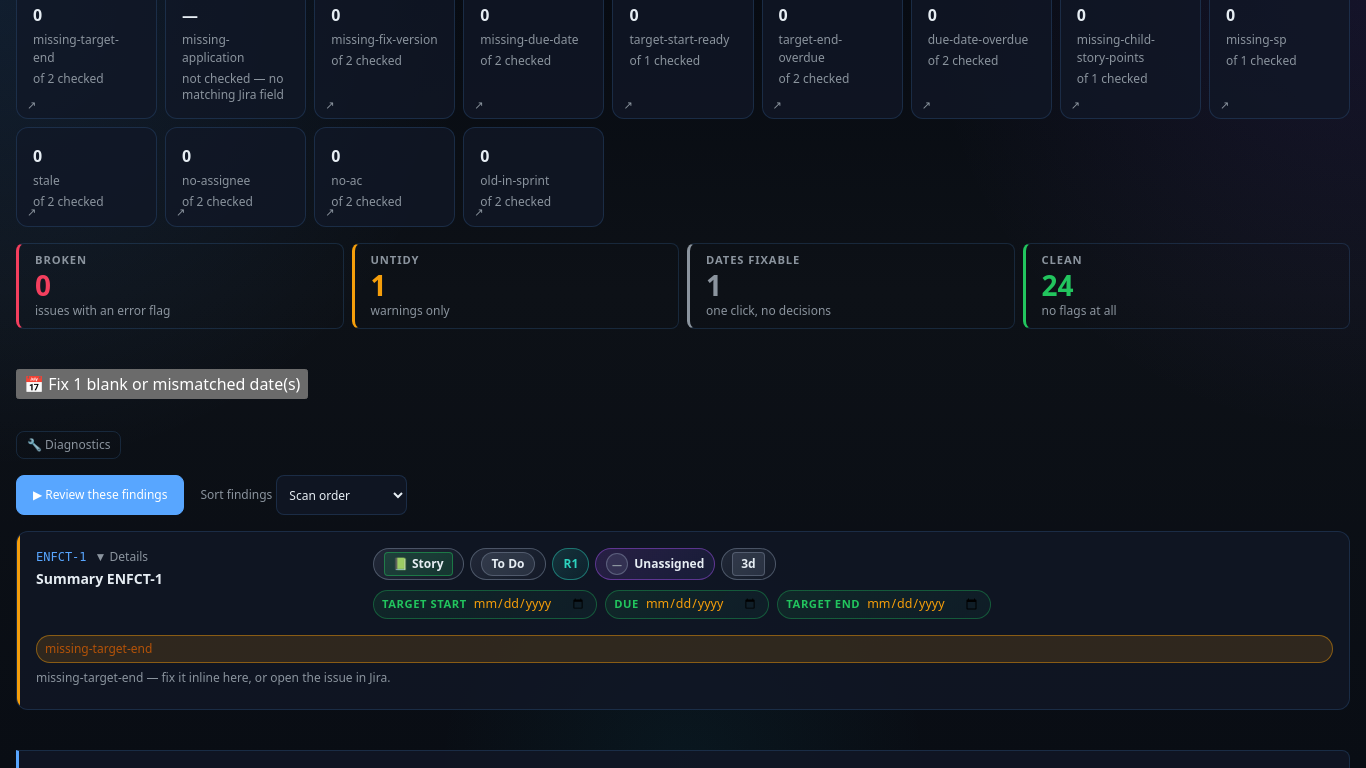
Scenario: HygieneView — the date button says what it will NOT do › shows Jira's own reason when a write fails, not just the issue key
(page scrolled)
Click the button "📅 Fix 1 blank or mismatched date(s)" at [162, 384], box [16,369,308,399]
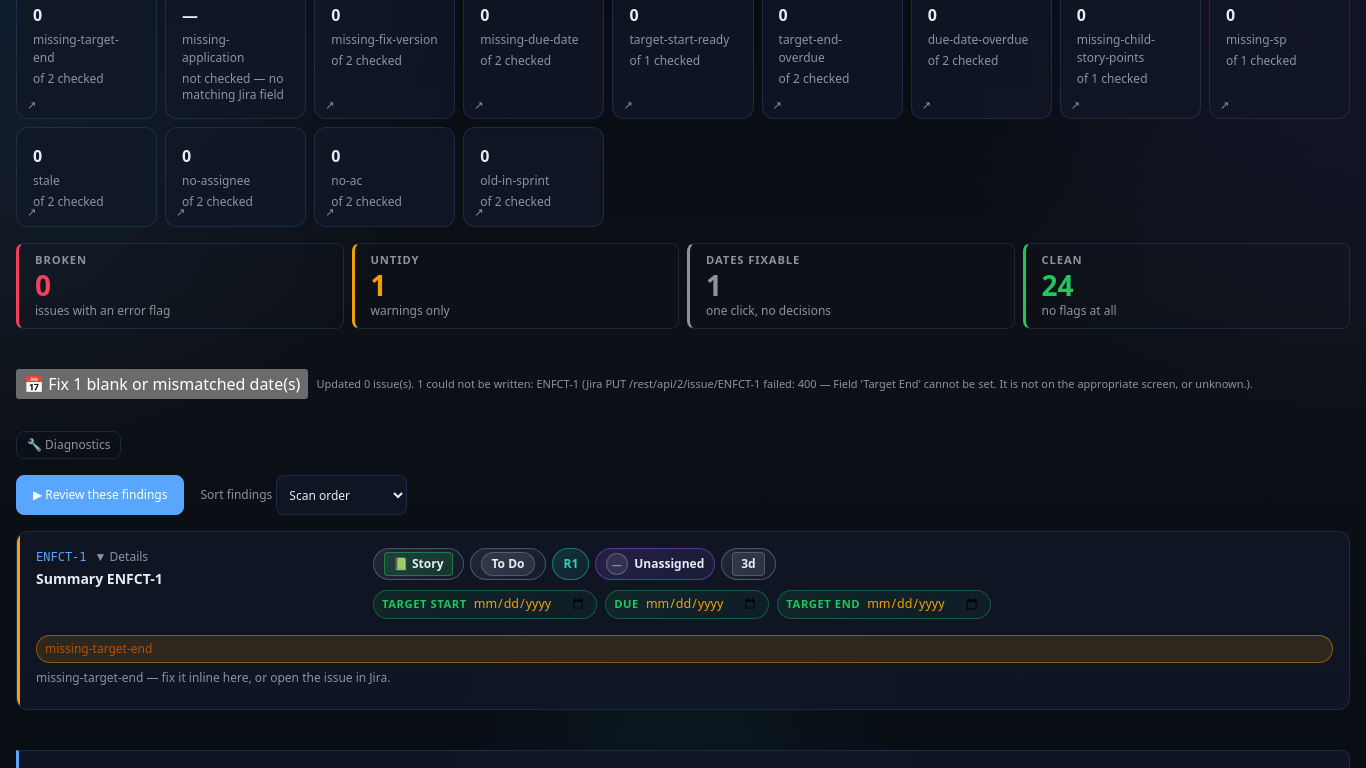
Now the text "could not be written" shows "ENFCT-1 (Jira PUT /rest/api/2/issue/ENFCT-1 failed: 400 — Field 'Target End' cannot be set", box [316,376,1253,391]
